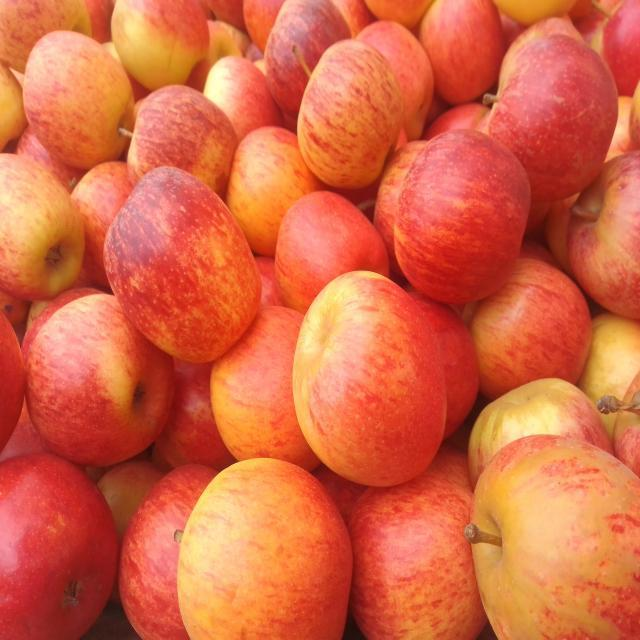Fresh Apple: (475, 431, 640, 640), (292, 267, 448, 488), (173, 456, 349, 640), (99, 168, 264, 354), (27, 292, 175, 460), (392, 125, 530, 290), (486, 27, 616, 198), (292, 38, 412, 194), (22, 27, 136, 163), (472, 265, 595, 390), (563, 151, 640, 304), (125, 82, 240, 176), (274, 186, 384, 276), (105, 0, 215, 85), (418, 0, 501, 96)
